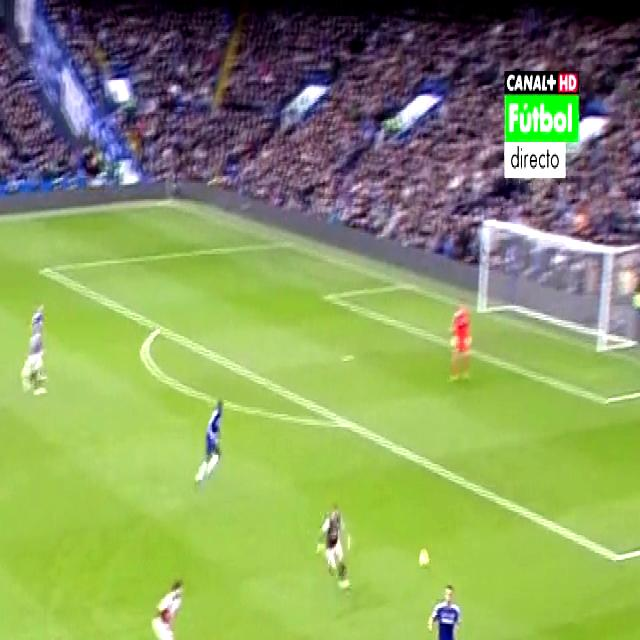ball: (415, 536, 430, 572)
goalkeeper: (444, 286, 481, 392)
soccer-player: (311, 490, 358, 598), (189, 385, 232, 493), (16, 289, 52, 400), (417, 570, 474, 640), (148, 563, 188, 640)
